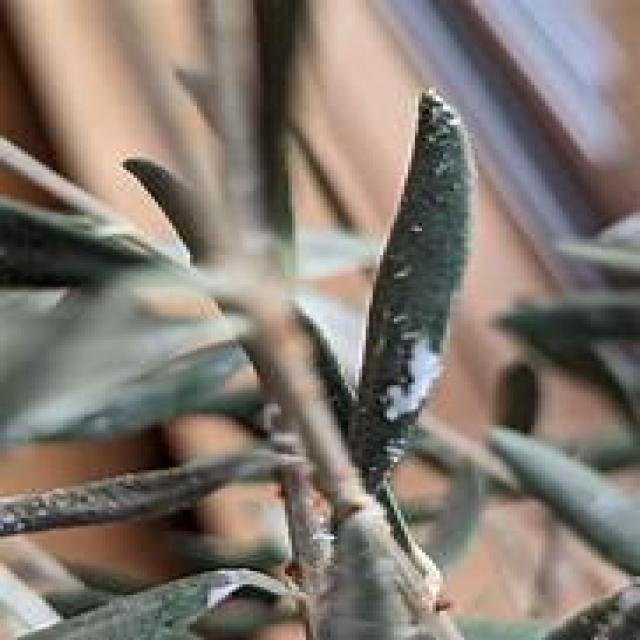Psyllid: (376, 332, 443, 428)
